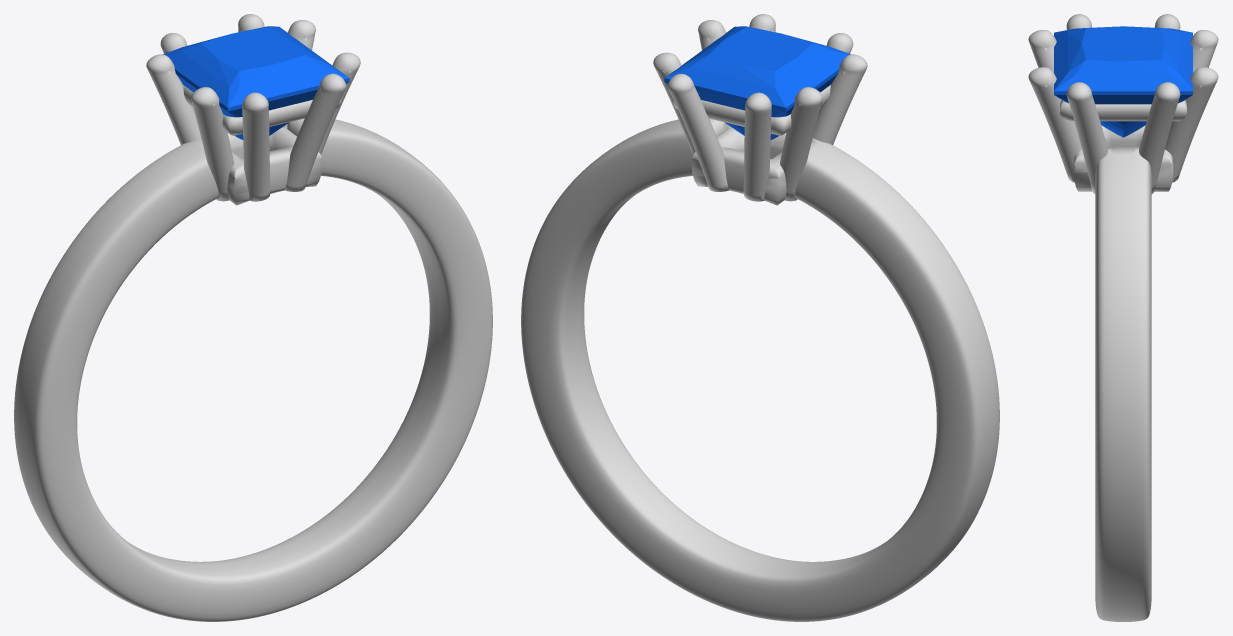
The model's file is bluesapphire-princess-platinum-8prong-straightband-solitaire.glb.
3 renders of one model, left to right at view 1: azimuth 30°, elevation 25°; view 2: azimuth 150°, elevation 25°; view 3: azimuth 270°, elevation 25°, orthographic.
Parts seen in each view (by area): view 1: metal, stone; view 2: metal, stone; view 3: metal, stone.
Part boxes in pixels (x1,y1,x2,y2): metal: [14, 14, 492, 621]; stone: [163, 26, 349, 139]; metal: [521, 14, 999, 621]; stone: [664, 26, 850, 139]; metal: [1028, 14, 1218, 621]; stone: [1054, 26, 1192, 137].
Bounding box in the file's own units: 20.51 × 23.85 × 7.42.
